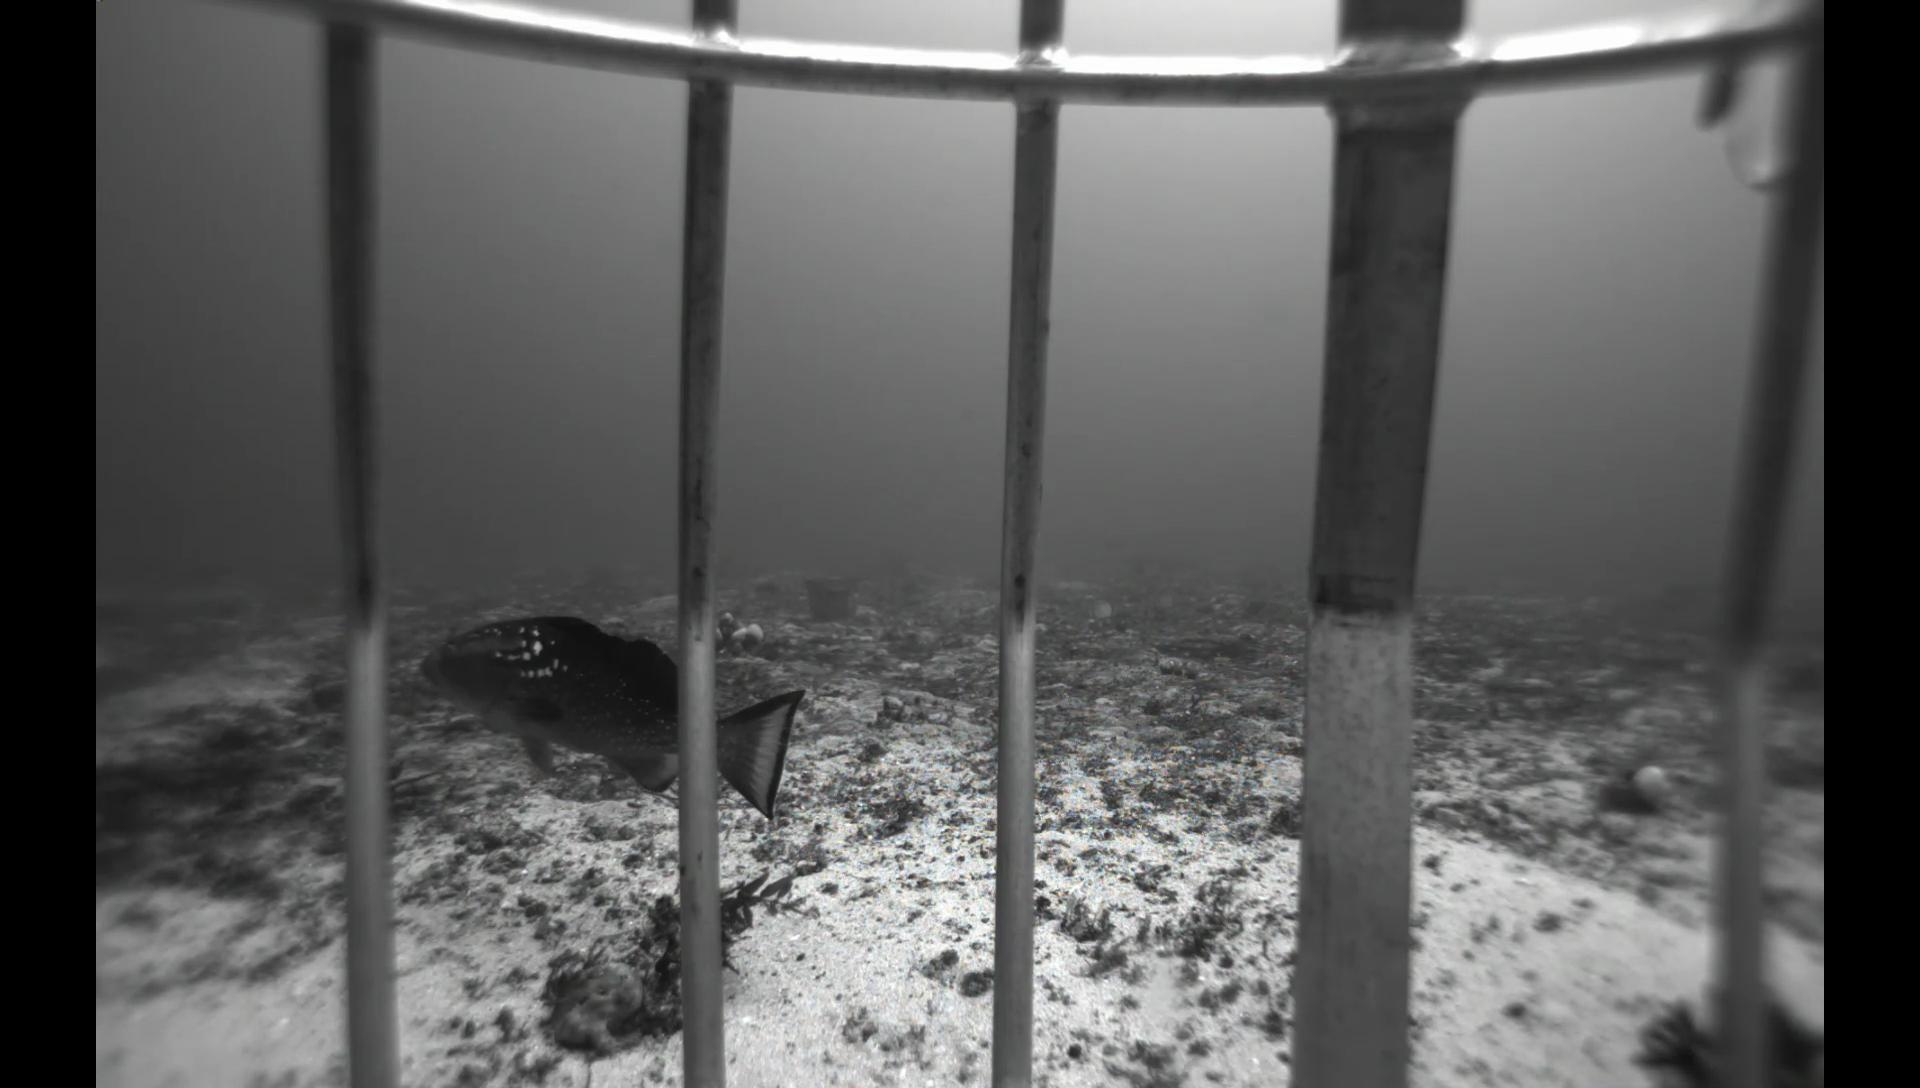CHAETODONOCELLATUS-170260307: (1079, 595, 1120, 626), (1145, 586, 1180, 613)
EPINEPHELUSMORIO-170021211: (407, 613, 808, 832)
PRISTIGENYSALTA-170050401: (297, 678, 347, 721)
